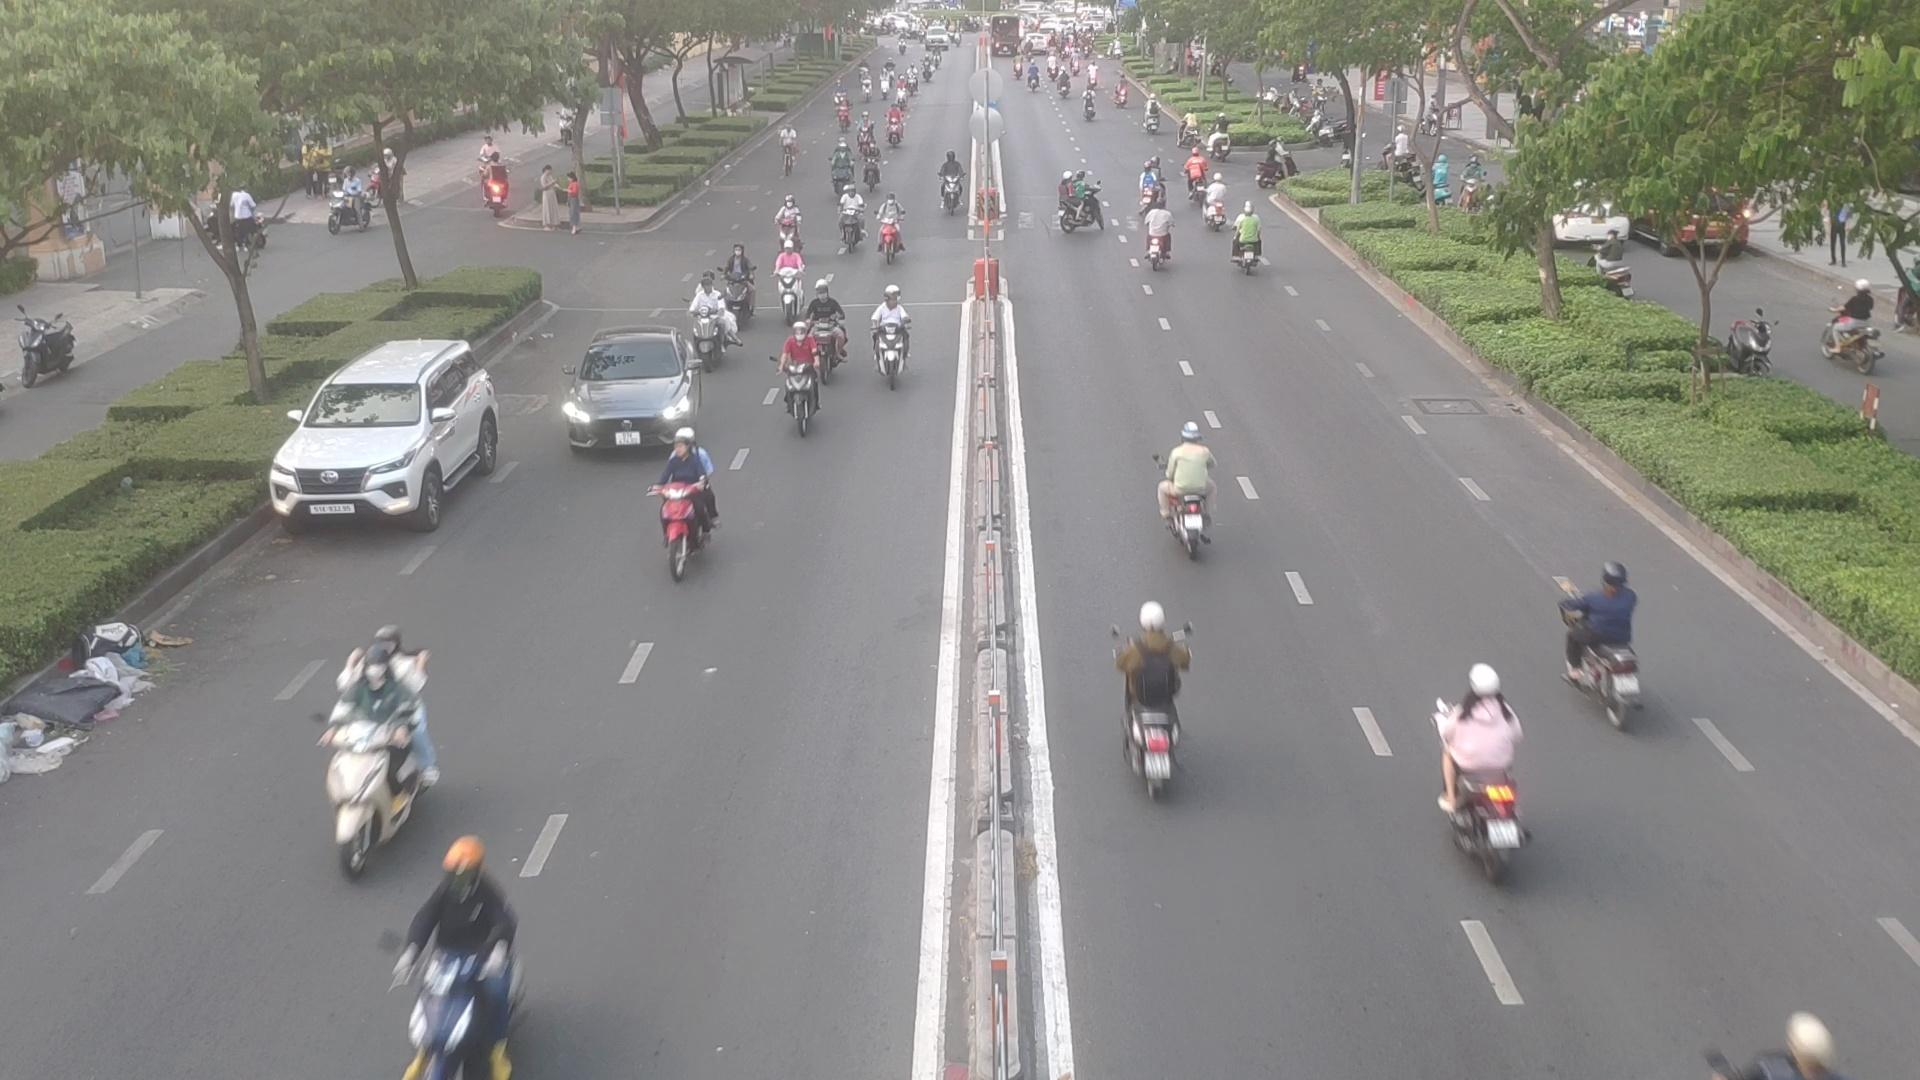car: (276, 339, 516, 531), (556, 328, 705, 451)
motorbike: (392, 855, 520, 1077), (322, 634, 447, 857), (1429, 665, 1542, 865), (1114, 593, 1189, 795), (1571, 567, 1658, 725), (644, 429, 723, 574), (1151, 431, 1222, 558), (775, 320, 837, 436), (866, 295, 918, 389), (687, 285, 744, 364), (1051, 171, 1108, 239), (800, 290, 852, 356), (715, 245, 761, 316), (1226, 211, 1273, 276), (1139, 203, 1179, 268), (775, 247, 818, 305), (775, 194, 814, 252), (938, 156, 971, 214), (835, 196, 866, 256), (1203, 171, 1236, 227), (1133, 161, 1164, 218), (872, 215, 905, 266), (832, 142, 855, 200), (1183, 152, 1207, 200), (858, 146, 882, 191), (1211, 127, 1242, 160), (881, 108, 907, 146), (856, 113, 872, 153)
